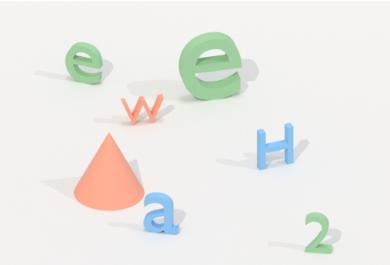0-TamGiac: (68, 129, 147, 214)
2: (300, 207, 335, 259)
H: (251, 116, 300, 174)
W: (116, 88, 168, 127)
a: (140, 191, 183, 238)
e: (174, 28, 246, 105), (61, 37, 107, 89)
